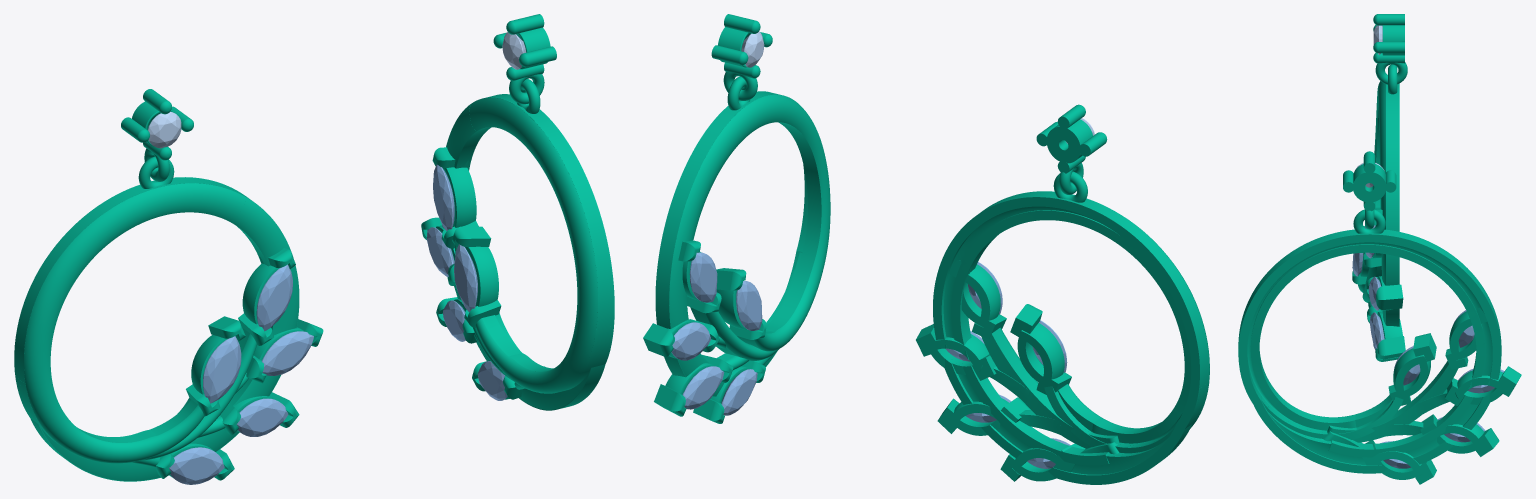
The picture shows the model from 3 angles, left to right: view 1: azimuth 30°, elevation 25°; view 2: azimuth 150°, elevation 25°; view 3: azimuth 270°, elevation 25°; orthographic projection. The views are drawn at different scales.
Parts seen in each view (by area): view 1: earring file.3dm, Diamond_Marquise (×10), Bezel (×4), Diamond_Round, Head Prong; view 2: earring file.3dm, Bezel (×6), Diamond_Marquise (×5), Head Prong (×4); view 3: earring file.3dm, Bezel (×6), Head Prong (×6), Diamond_Marquise.
Part boxes in pixels (x1=…): earring file.3dm: x1=14, y1=14, x2=614, y2=481; Diamond_Marquise (×10): x1=169, y1=164, x2=507, y2=484; Bezel (×4): x1=191, y1=167, x2=498, y2=394; Diamond_Round: x1=148, y1=111, x2=181, y2=148; Head Prong: x1=452, y1=226, x2=491, y2=247; earring file.3dm: x1=655, y1=14, x2=1209, y2=484; Bezel (×6): x1=716, y1=264, x2=1065, y2=481; Diamond_Marquise (×5): x1=671, y1=252, x2=762, y2=415; Head Prong (×4): x1=643, y1=268, x2=1042, y2=416; earring file.3dm: x1=1238, y1=14, x2=1501, y2=473; Bezel (×6): x1=1371, y1=311, x2=1505, y2=479; Head Prong (×6): x1=1376, y1=284, x2=1521, y2=484; Diamond_Marquise: x1=1369, y1=312, x2=1384, y2=348.
Size of the model in its own units: 2.91 by 2.15 by 1.7.
